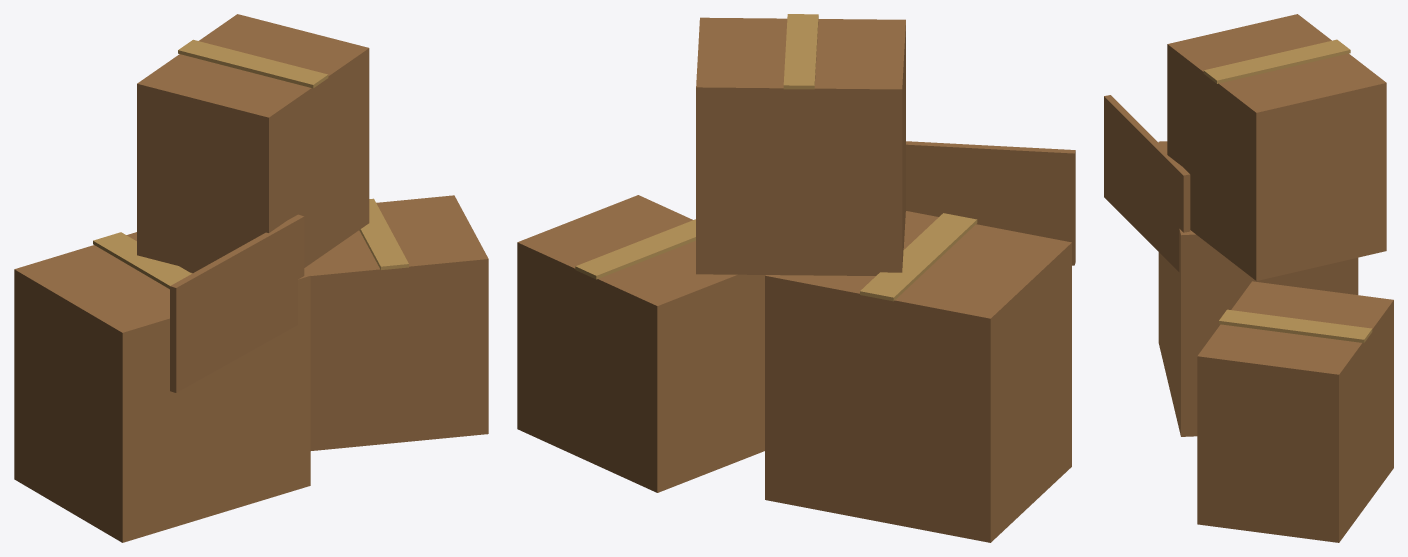
The model's file is boxes.glb.
3 views of the same model, side by side, from view 1: azimuth 30°, elevation 25°; view 2: azimuth 150°, elevation 25°; view 3: azimuth 270°, elevation 25° (orthographic). The views are drawn at different scales.
Parts seen in each view (by area): view 1: boxes; view 2: boxes; view 3: boxes.
Part boxes in pixels (box(x1,y1,x2,y2)): boxes: box(14, 14, 488, 542); boxes: box(517, 14, 1075, 542); boxes: box(1104, 14, 1393, 542).
Size of the model in its own units: 1.32 by 1.11 by 0.7812.
